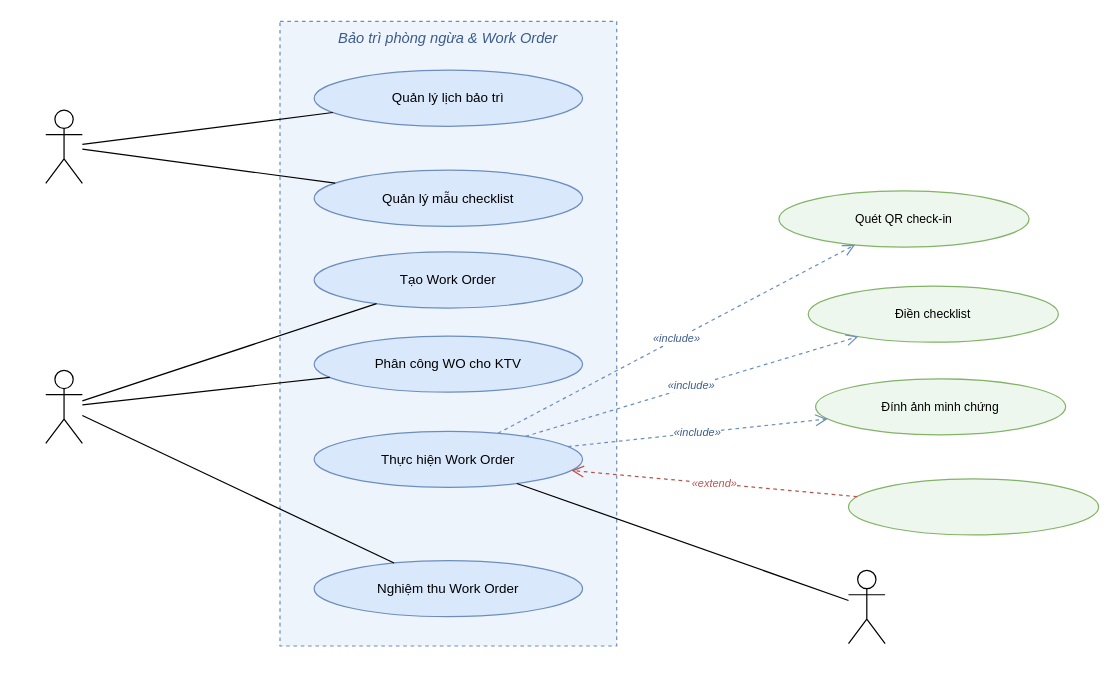
The diagram is 1120 pixels wide and 691 high, and some of its shapes have lost their labels. Each missing label, with the centre of its shape:
"Ban quản lý" goes at point 63,146.
"Kỹ sư trưởng" goes at point 63,406.
"Kỹ thuật viên" goes at point 866,606.
"Xuất & ghi vật tư" goes at point 973,506.
